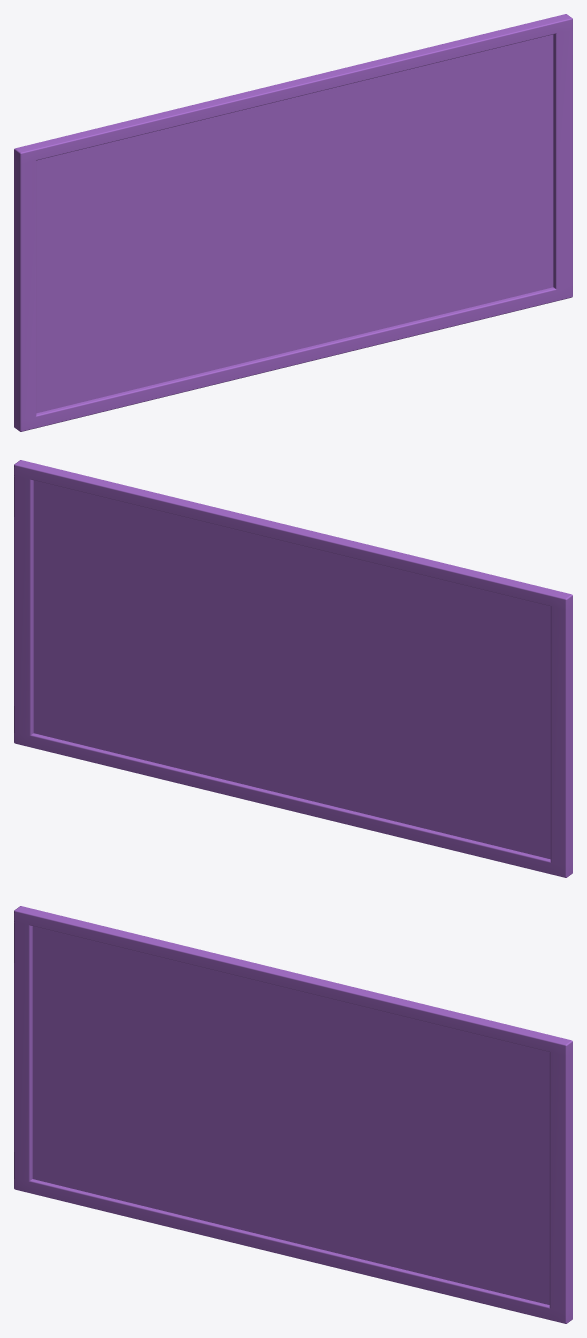
Rendered from cuadro04B.fbx.
The picture shows the model from 3 angles, top to bottom: view 1: azimuth 30°, elevation 25°; view 2: azimuth 150°, elevation 25°; view 3: azimuth 330°, elevation 25°; orthographic projection.
Parts seen in each view (by area): view 1: cuadro08; view 2: cuadro08; view 3: cuadro08.
Boxes of the visible parts, x1,y1,x2,y2 form: cuadro08: [14, 14, 572, 431]; cuadro08: [14, 460, 572, 877]; cuadro08: [14, 906, 572, 1323].
Size of the model in its own units: 2.19 by 1.06 by 0.0467.
